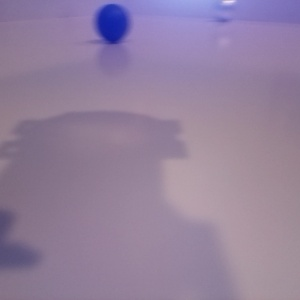alive_ball: (84, 29, 180, 131), (1, 43, 23, 101)
dead_ball: (2, 31, 56, 86)
